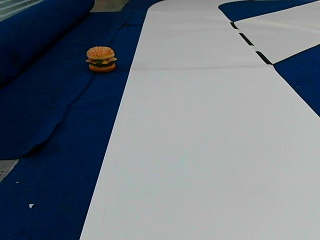burger: (86, 44, 116, 72)
